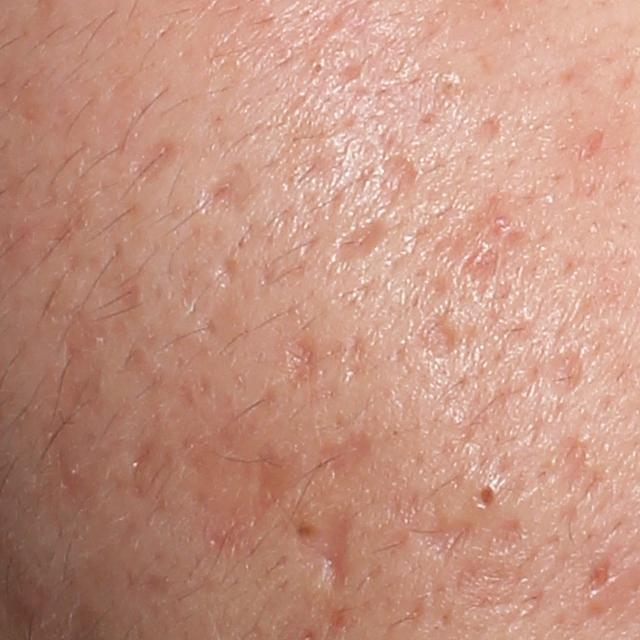atrophic_scar: (269, 120, 417, 218), (416, 188, 532, 306), (265, 326, 384, 411), (295, 505, 355, 602), (411, 304, 495, 366), (240, 446, 308, 522), (191, 160, 267, 226), (312, 435, 388, 498), (123, 136, 186, 193), (563, 123, 620, 180), (331, 218, 398, 264), (540, 347, 591, 406), (460, 108, 500, 156), (208, 252, 244, 297), (590, 559, 614, 591)
comedo: (472, 478, 505, 512), (308, 58, 330, 78)
